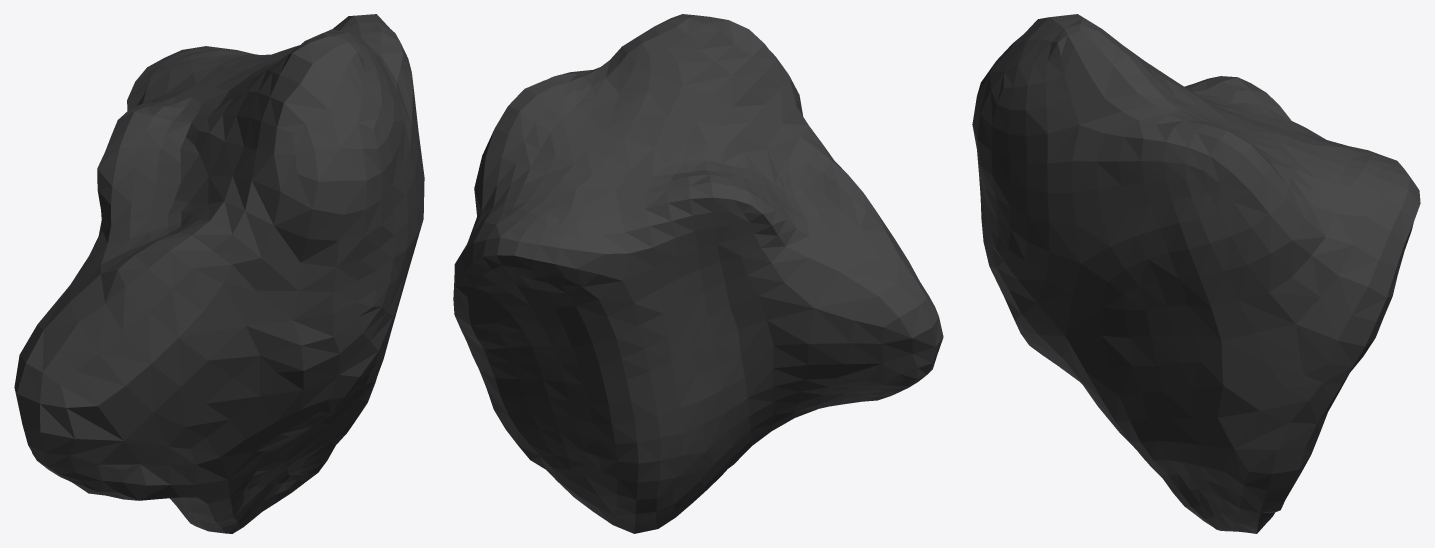
Rendered from Patella.glb.
3 views of the same model, side by side, from view 1: azimuth 30°, elevation 25°; view 2: azimuth 150°, elevation 25°; view 3: azimuth 270°, elevation 25° (orthographic). The views are drawn at different scales.
Parts seen in each view (by area): view 1: Patella; view 2: Patella; view 3: Patella.
Boxes of the visible parts, box(x1,y1,x2,y2) form: Patella: box(14, 14, 424, 533); Patella: box(453, 14, 943, 533); Patella: box(972, 14, 1420, 533).
Size of the model in its own units: 74.54 by 85.79 by 67.53.
1 material, 1 textured.
